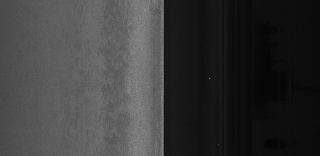silk spot: (100, 37, 140, 156)
